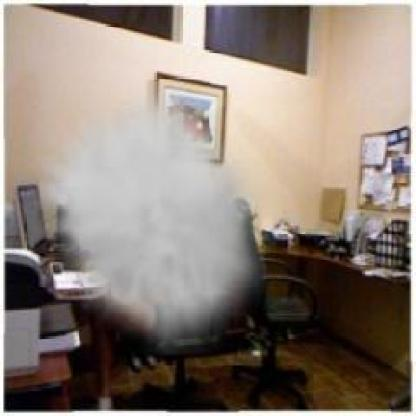Smoke: (38, 85, 267, 340)
